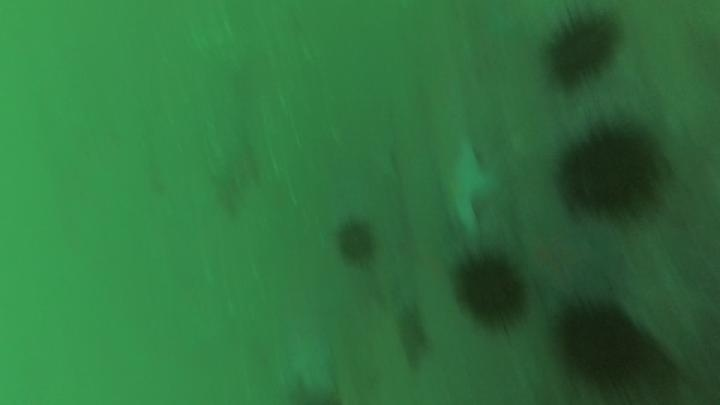echinus: (554, 120, 666, 221), (552, 294, 649, 394), (448, 244, 532, 333), (538, 8, 624, 92), (333, 216, 379, 269)
starfish: (515, 210, 619, 307), (434, 137, 503, 240), (390, 300, 434, 373)
